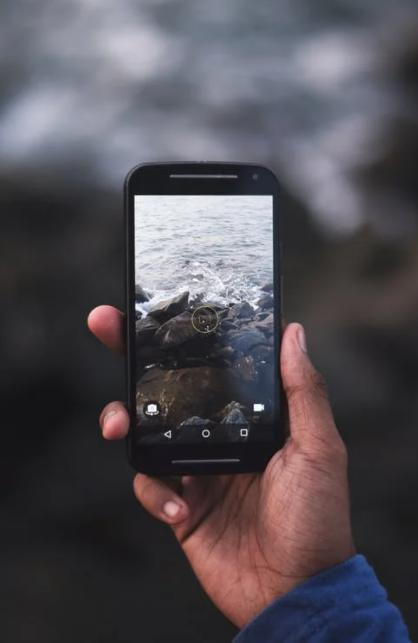mobile: (124, 161, 286, 473)
